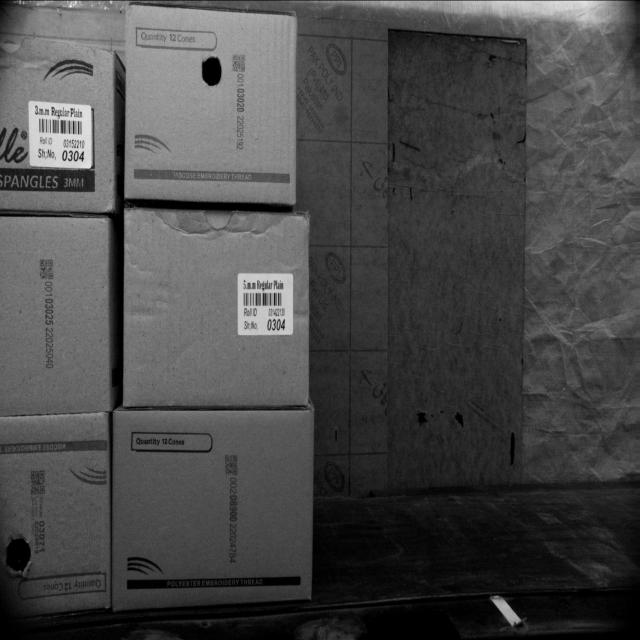cardboxes: (115, 412, 310, 603), (124, 209, 309, 408), (126, 6, 296, 206), (0, 416, 112, 616), (0, 217, 111, 415), (0, 36, 114, 212), (367, 532, 374, 534)
